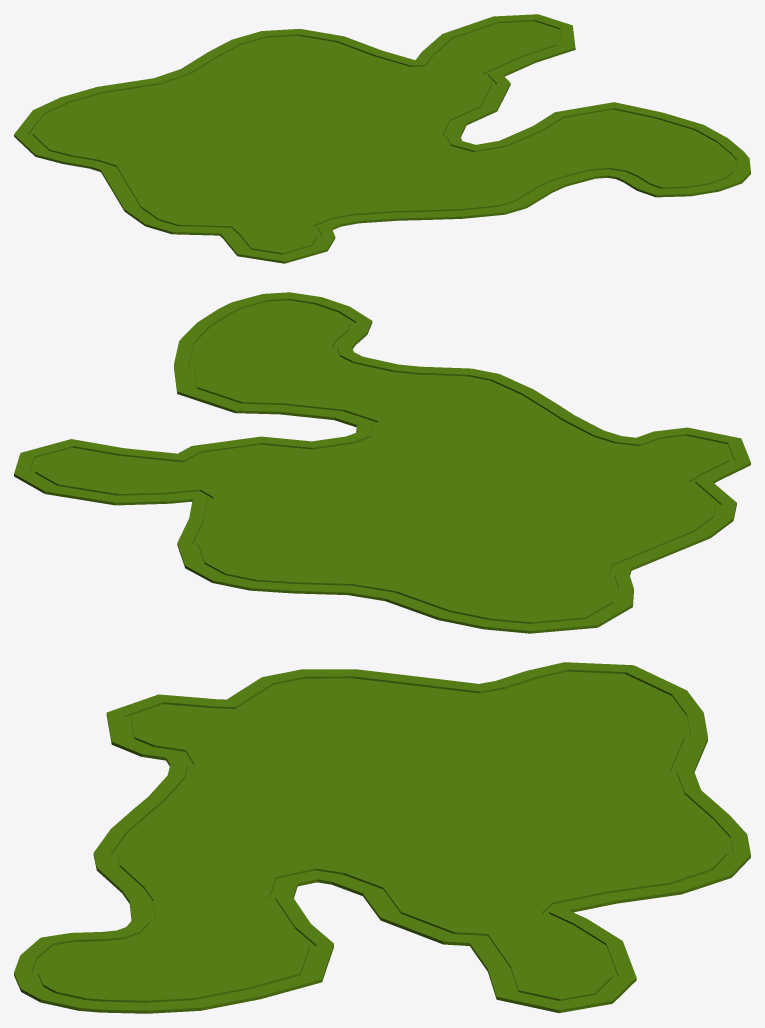
Rendered from jardinCircu.dae.
3 views of the same model, one above another, from view 1: azimuth 30°, elevation 25°; view 2: azimuth 150°, elevation 25°; view 3: azimuth 270°, elevation 25° (orthographic). The views are drawn at different scales.
Visible parts, largest first — view 1: cirJardin-col; view 2: cirJardin-col; view 3: cirJardin-col.
Boxes of the visible parts, x1,y1,x2,y2 form: cirJardin-col: [14, 14, 750, 263]; cirJardin-col: [14, 292, 750, 633]; cirJardin-col: [14, 662, 750, 1013].
Size of the model in its own units: 57.52 by 51.39 by 0.231.
